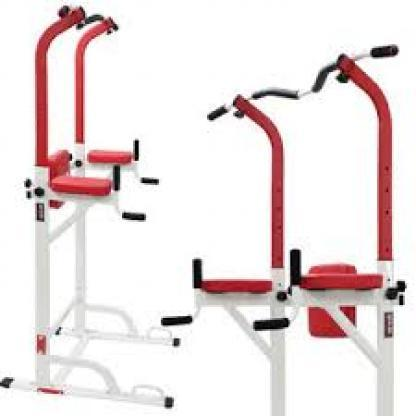chinning dipping: (1, 4, 178, 409)
